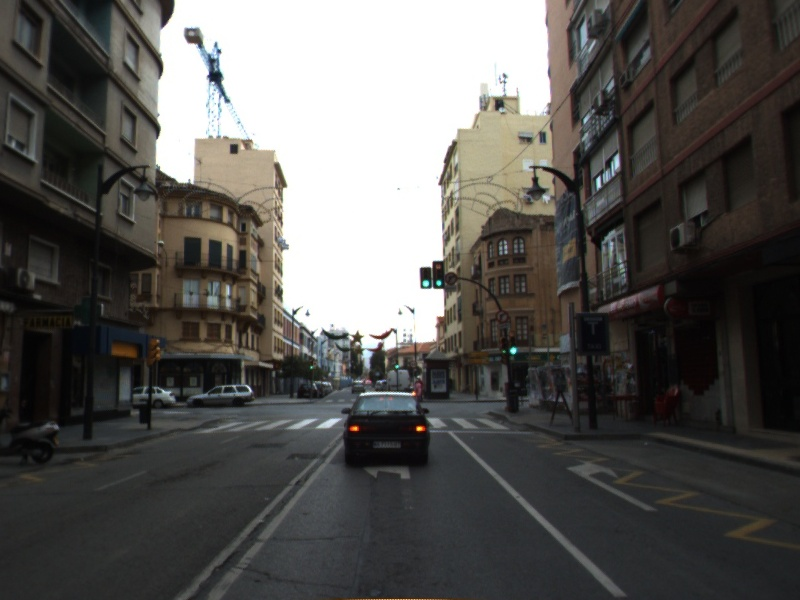RIGHT: (563, 456, 661, 513)
